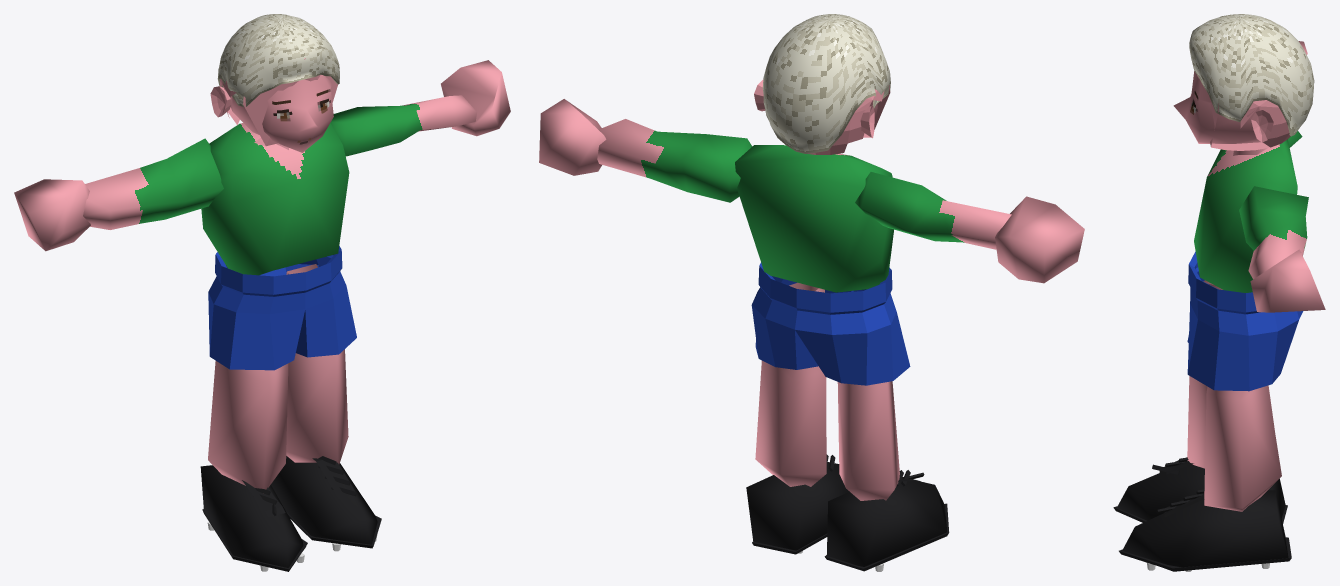
The model's file is 03-raspado_loiro-pintado.glb.
3 views of the same model, side by side, from view 1: azimuth 30°, elevation 25°; view 2: azimuth 150°, elevation 25°; view 3: azimuth 270°, elevation 25° (orthographic). The views are drawn at different scales.
Parts seen in each view (by area): view 1: Camisa_Tronco, Bermuda, Perna.R, Braco.R, Cabelo, Perna.L, Chuteira.R, Chuteira.L, Braco.L, Mao.R, Cabeca, Mao.L (+4 smaller); view 2: Camisa_Tronco, Bermuda, Cabelo, Perna.L, Braco.L, Chuteira.R, Perna.R, Braco.R, Mao.R, Chuteira.L, Mao.L, Cranio (+1 smaller); view 3: Cabelo, Bermuda, Chuteira.L, Camisa_Tronco, Perna.L, Braco.L, Mao.L, Chuteira.R, Cabeca, Perna.R, Cranio, Chuteira_Sola.L (+3 smaller).
Part boxes in pixels (left/top/right/bottom): Camisa_Tronco: left=201, top=123, right=349, bottom=275; Bermuda: left=208, top=246, right=356, bottom=370; Perna.R: left=208, top=361, right=288, bottom=493; Braco.R: left=83, top=138, right=223, bottom=229; Cabelo: left=217, top=14, right=339, bottom=106; Perna.L: left=286, top=264, right=348, bottom=464; Chuteira.R: left=200, top=465, right=305, bottom=567; Chuteira.L: left=271, top=456, right=377, bottom=544; Braco.L: left=330, top=95, right=476, bottom=156; Mao.R: left=14, top=179, right=90, bottom=251; Cabeca: left=223, top=75, right=333, bottom=152; Mao.L: left=441, top=60, right=510, bottom=136; Camisa_Tronco: left=735, top=145, right=893, bottom=292; Bermuda: left=751, top=262, right=910, bottom=385; Cabelo: left=762, top=14, right=890, bottom=153; Perna.L: left=755, top=282, right=826, bottom=486; Braco.L: left=597, top=119, right=752, bottom=202; Chuteira.R: left=827, top=477, right=946, bottom=566; Perna.R: left=837, top=381, right=899, bottom=500; Braco.R: left=855, top=172, right=1011, bottom=249; Mao.R: left=995, top=196, right=1084, bottom=283; Chuteira.L: left=746, top=462, right=849, bottom=550; Mao.L: left=539, top=99, right=606, bottom=175; Cranio: left=808, top=85, right=890, bottom=154; Cabelo: left=1189, top=14, right=1314, bottom=136; Bermuda: left=1187, top=251, right=1303, bottom=391; Chuteira.L: left=1122, top=490, right=1288, bottom=571; Camisa_Tronco: left=1194, top=139, right=1297, bottom=292; Perna.L: left=1204, top=385, right=1281, bottom=511; Braco.L: left=1239, top=186, right=1308, bottom=279; Mao.L: left=1250, top=249, right=1325, bottom=312; Chuteira.R: left=1117, top=461, right=1285, bottom=520; Cabeca: left=1173, top=71, right=1260, bottom=143; Perna.R: left=1187, top=280, right=1274, bottom=468; Cranio: left=1197, top=75, right=1290, bottom=150; Chuteira_Sola.L: left=1119, top=537, right=1291, bottom=571.
Bounding box in the file's own units: 0.4523 × 0.4415 × 0.1617.
3 materials, 3 textured.
